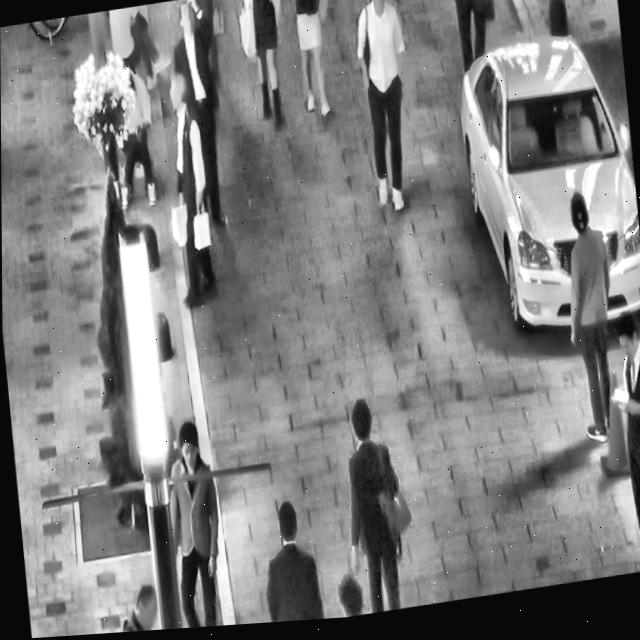light_vehicle: (445, 13, 640, 361)
